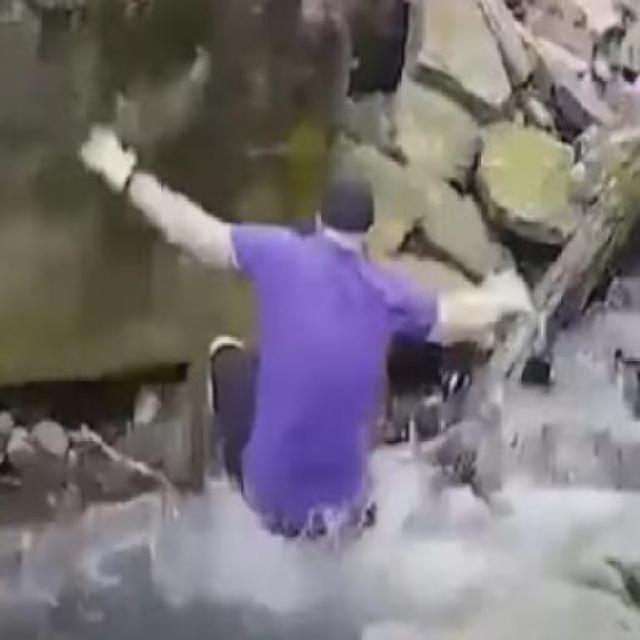fall: (80, 127, 532, 541)
